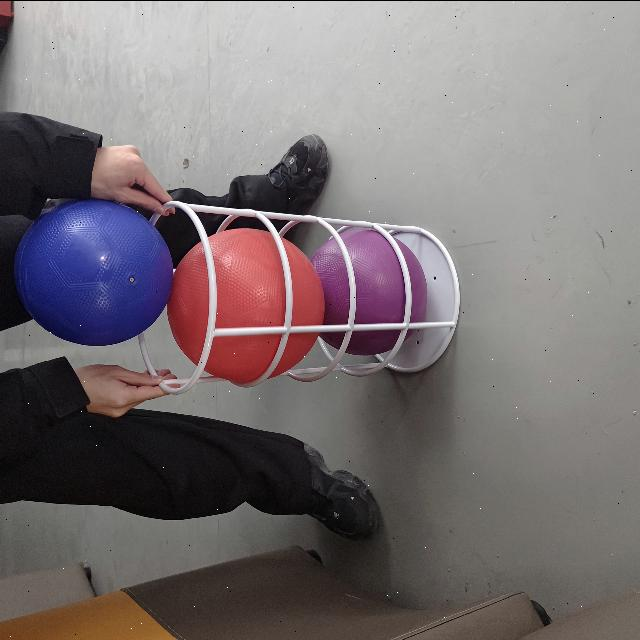B: (6, 199, 168, 349)
P: (312, 226, 408, 356)
R: (171, 228, 317, 384)
S: (160, 206, 456, 384)
